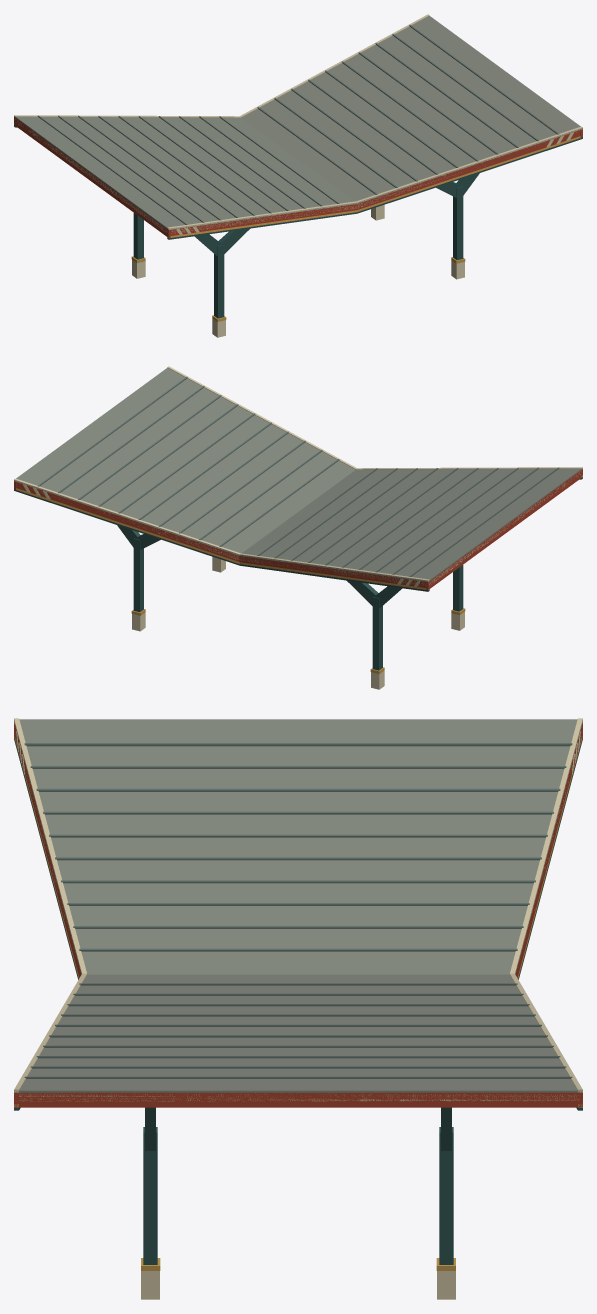
File: northline_canopy.glb
3 views of the same model, one above another, from view 1: azimuth 30°, elevation 25°; view 2: azimuth 150°, elevation 25°; view 3: azimuth 270°, elevation 25° (orthographic). The views are drawn at different scales.
Visible parts, largest first — view 1: Northline canopy; view 2: Northline canopy; view 3: Northline canopy.
Boxes of the visible parts, x1,y1,x2,y2 form: Northline canopy: (14, 14, 582, 337); Northline canopy: (14, 366, 582, 689); Northline canopy: (14, 718, 582, 1299).
Size of the model in its own units: 20.8 by 7.43 by 13.46.
